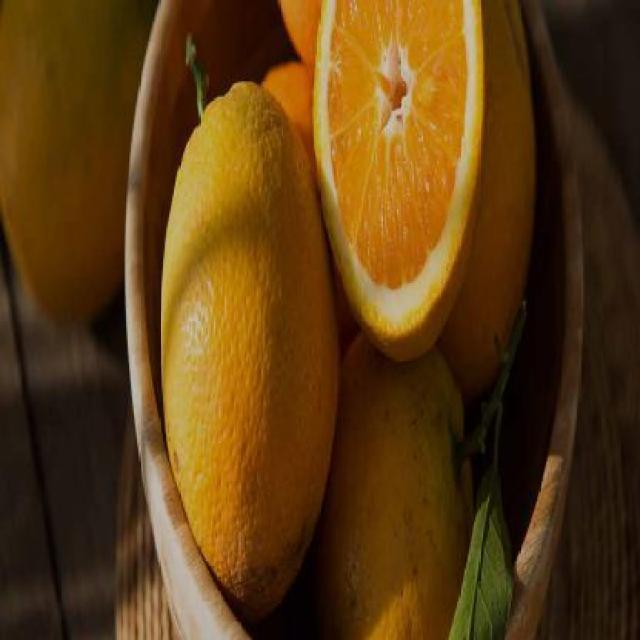Jeruk Sudah Matang: (161, 88, 341, 602), (380, 0, 537, 389), (1, 0, 161, 334), (314, 322, 470, 640)
